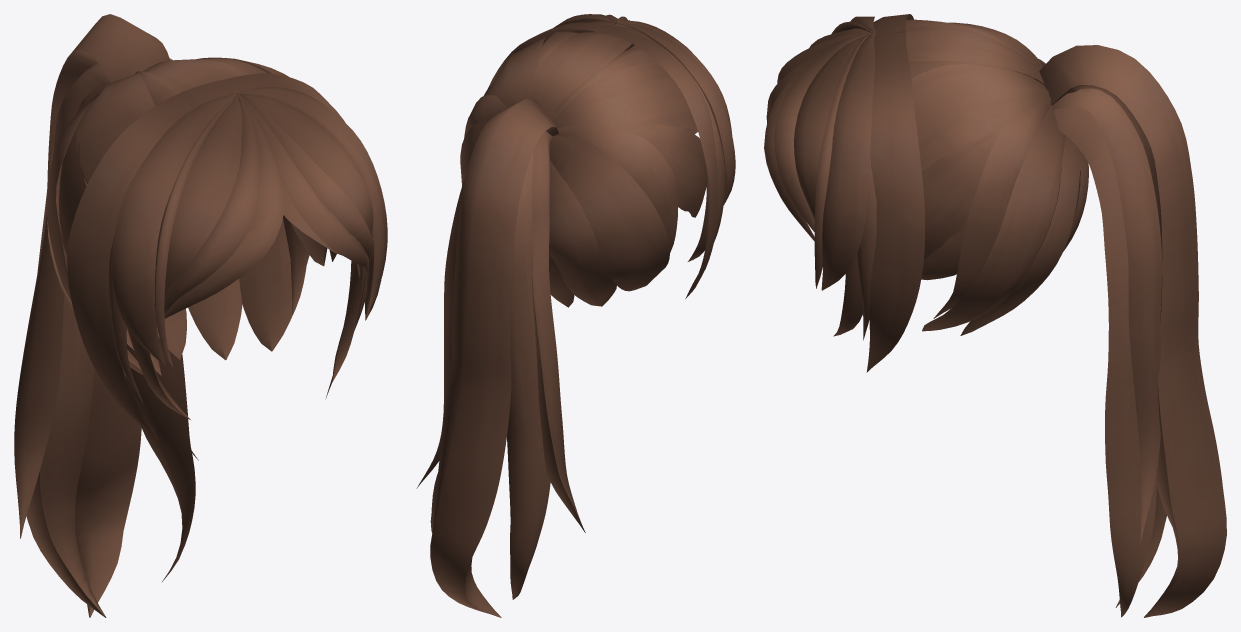
File: vroid_hair2.glb
3 views of the same model, side by side, from view 1: azimuth 30°, elevation 25°; view 2: azimuth 150°, elevation 25°; view 3: azimuth 270°, elevation 25° (orthographic). The views are drawn at different scales.
Parts seen in each view (by area): view 1: hair; view 2: hair; view 3: hair.
Part boxes in pixels (x1=…): hair: x1=14, y1=14, x2=387, y2=617; hair: x1=416, y1=14, x2=735, y2=617; hair: x1=764, y1=14, x2=1226, y2=617.
Size of the model in its own units: 0.2085 by 0.4372 by 0.3116.
Materials: 1 (1 with a texture image).
